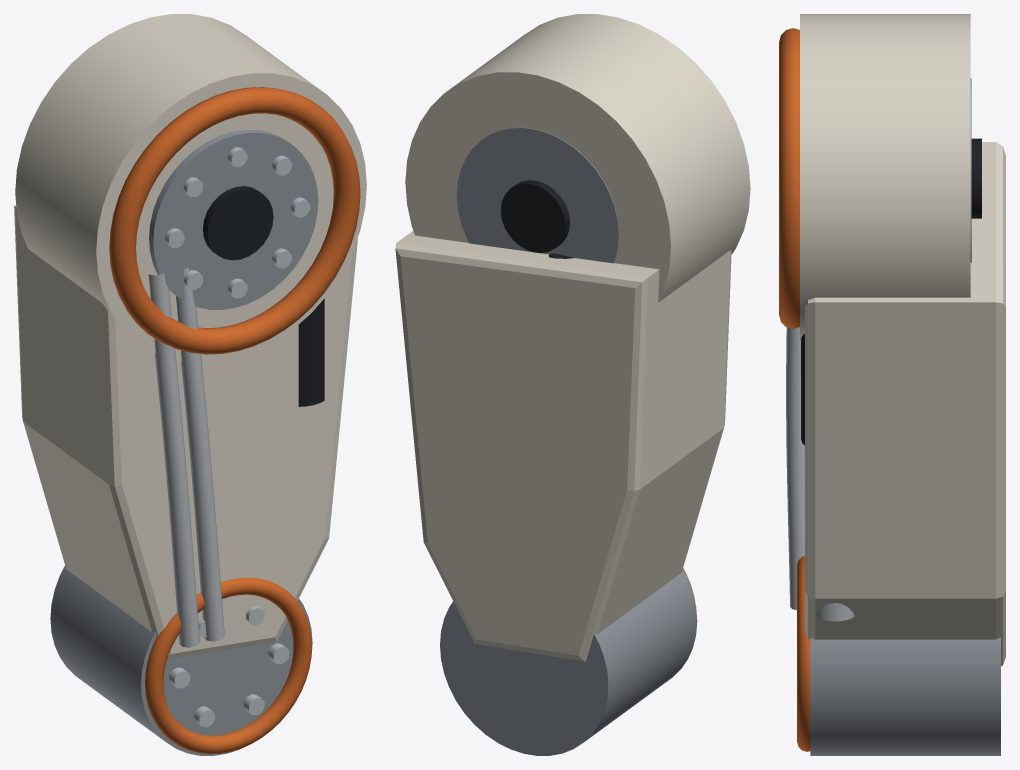
The model's file is right_thigh_link.glb.
3 renders of one model, left to right at view 1: azimuth 30°, elevation 25°; view 2: azimuth 150°, elevation 25°; view 3: azimuth 270°, elevation 25°, orthographic. The views are drawn at different scales.
Parts seen in each view (by area): view 1: right_thigh_link; view 2: right_thigh_link; view 3: right_thigh_link.
Part boxes in pixels (box(x1,y1,x2,y2)): right_thigh_link: box(14, 14, 366, 755); right_thigh_link: box(395, 14, 750, 755); right_thigh_link: box(779, 14, 1005, 755).
Bounding box in the file's own units: 0.164 × 0.394 × 0.113.
